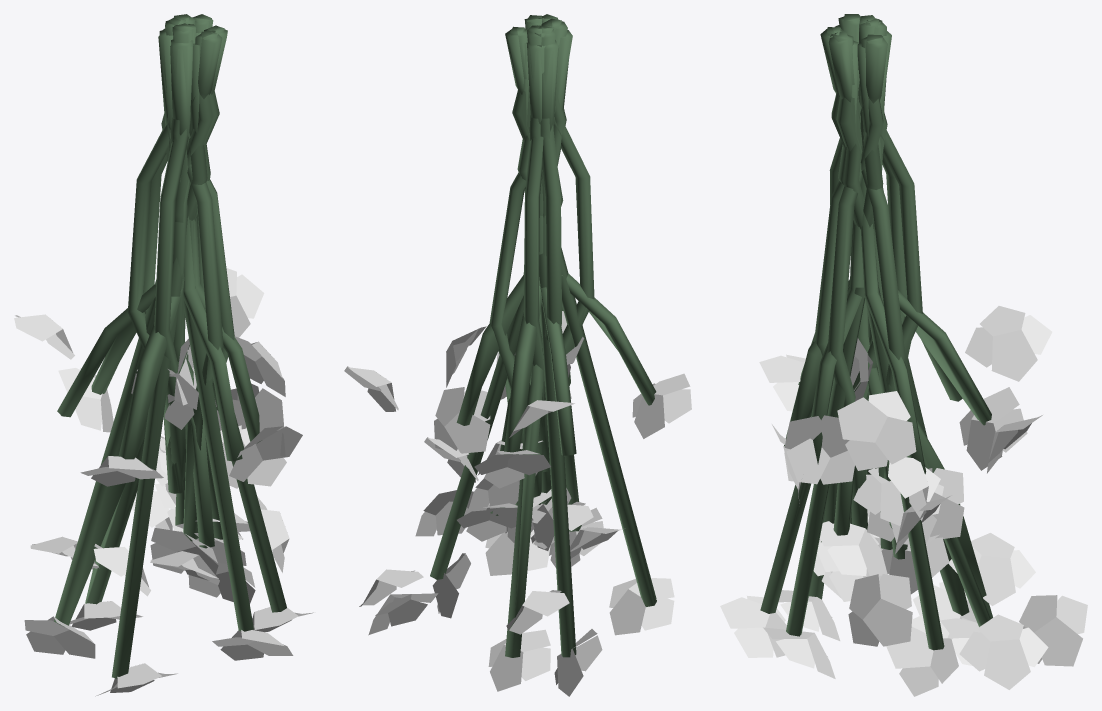
Rendered from Kwiaty4.fbx.
The picture shows the model from 3 angles, left to right: view 1: azimuth 30°, elevation 25°; view 2: azimuth 150°, elevation 25°; view 3: azimuth 270°, elevation 25°; orthographic projection. The views are drawn at different scales.
Parts seen in each view (by area): view 1: Łodyga4, Kwiatki; view 2: Łodyga4, Kwiatki; view 3: Kwiatki, Łodyga4.
Boxes of the visible parts, x1,y1,x2,y2 form: Łodyga4: [54, 14, 286, 678]; Kwiatki: [14, 268, 313, 696]; Łodyga4: [430, 14, 656, 657]; Kwiatki: [344, 311, 691, 696]; Kwiatki: [720, 306, 1087, 696]; Łodyga4: [760, 14, 992, 650].
Size of the model in its own units: 46.04 by 104 by 52.1.
